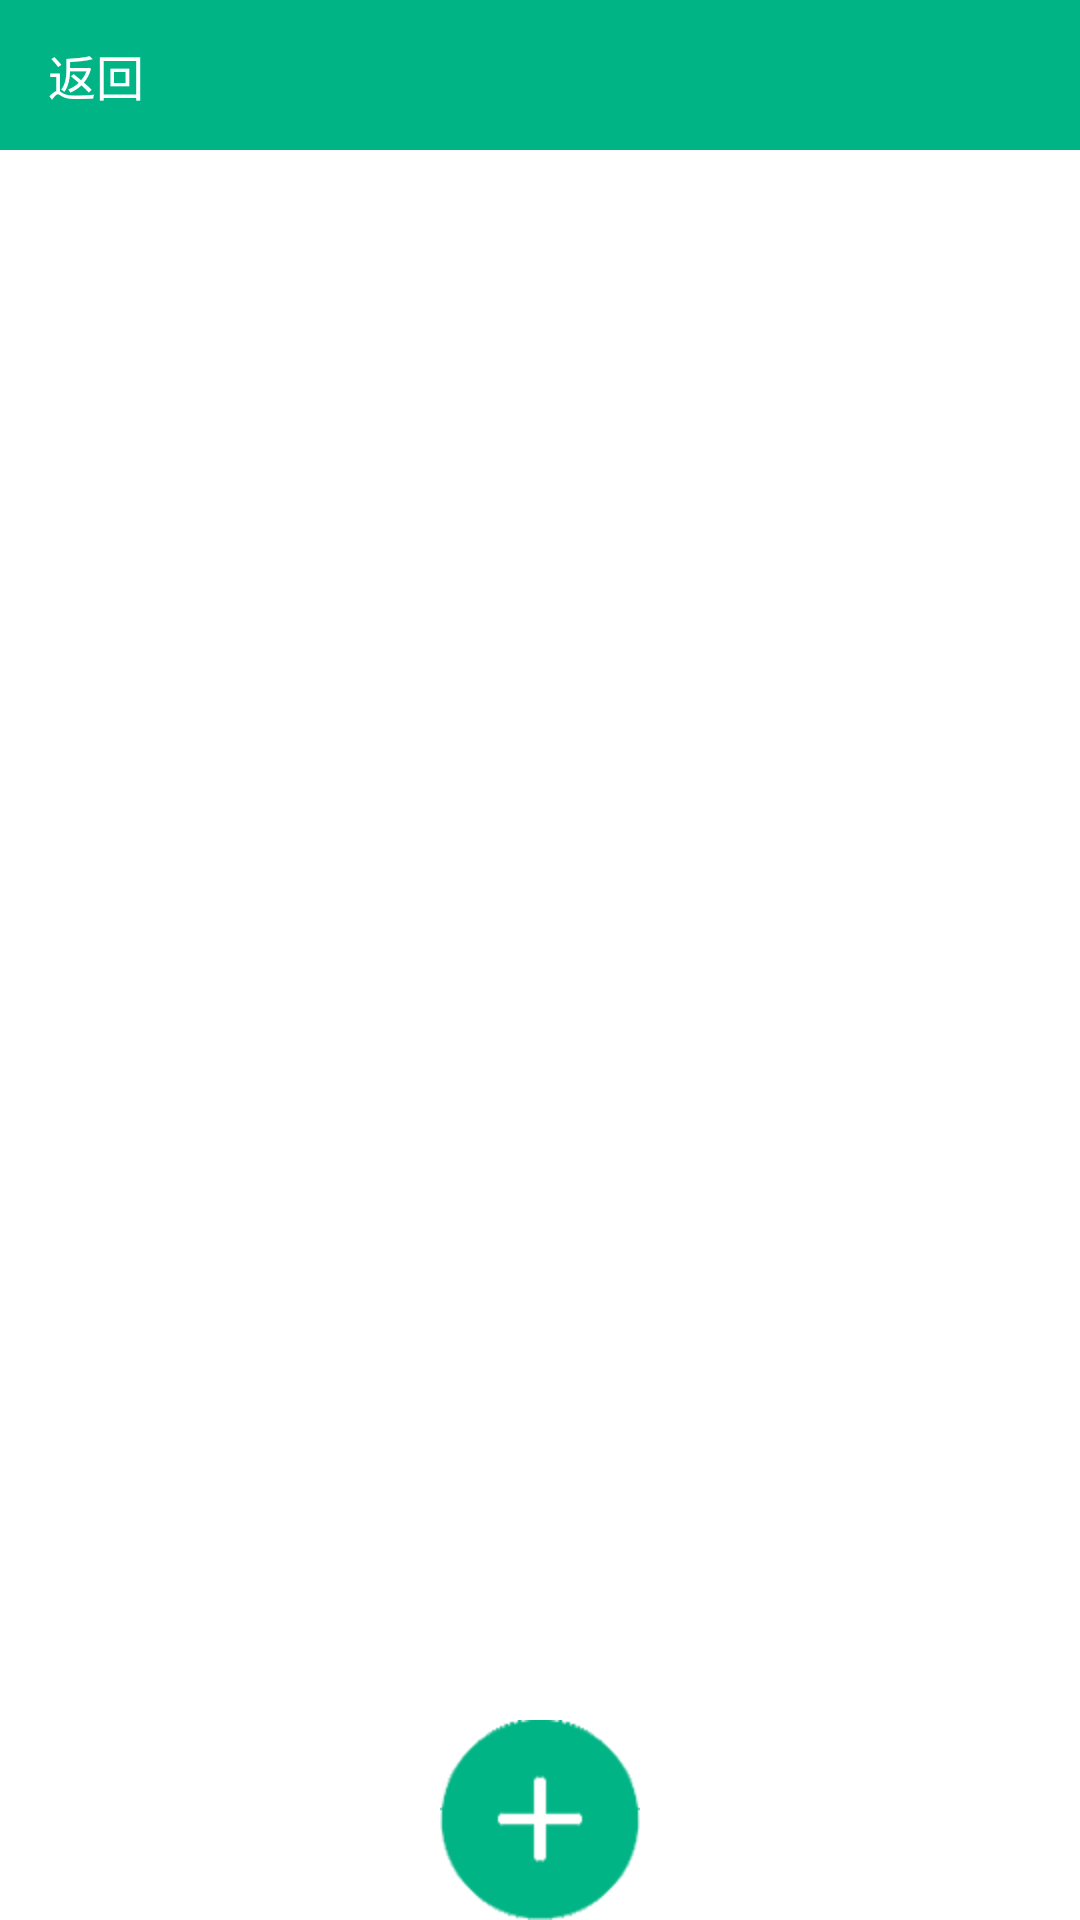

Where to tap for icons on this 1080px×1920px app screen, as (x=x, y=y):
add: (x=540, y=1820)
